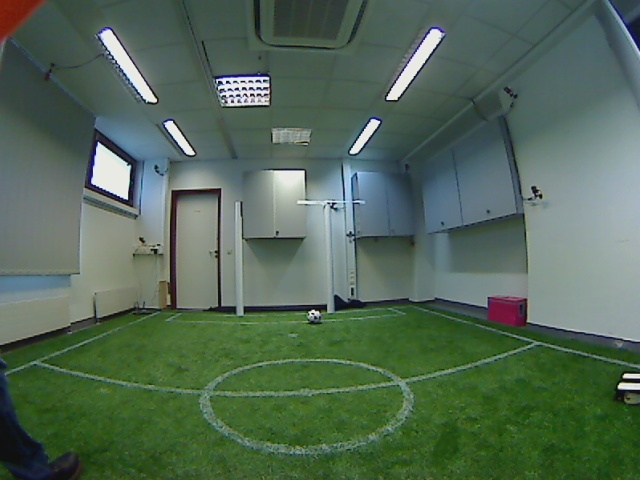ball: (301, 305, 327, 328)
